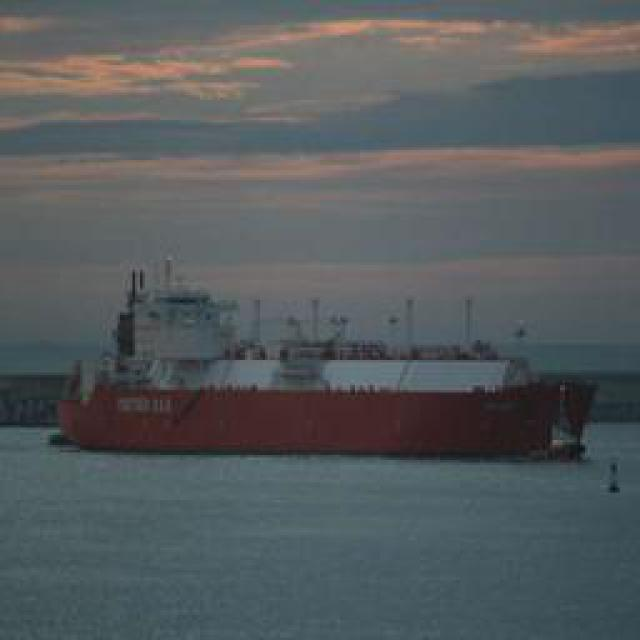Ship: (58, 284, 603, 464)
